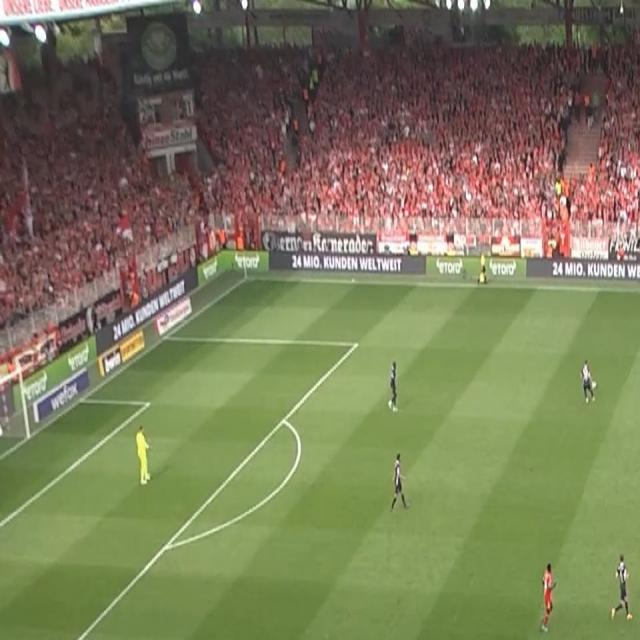ball: (590, 379, 598, 391)
